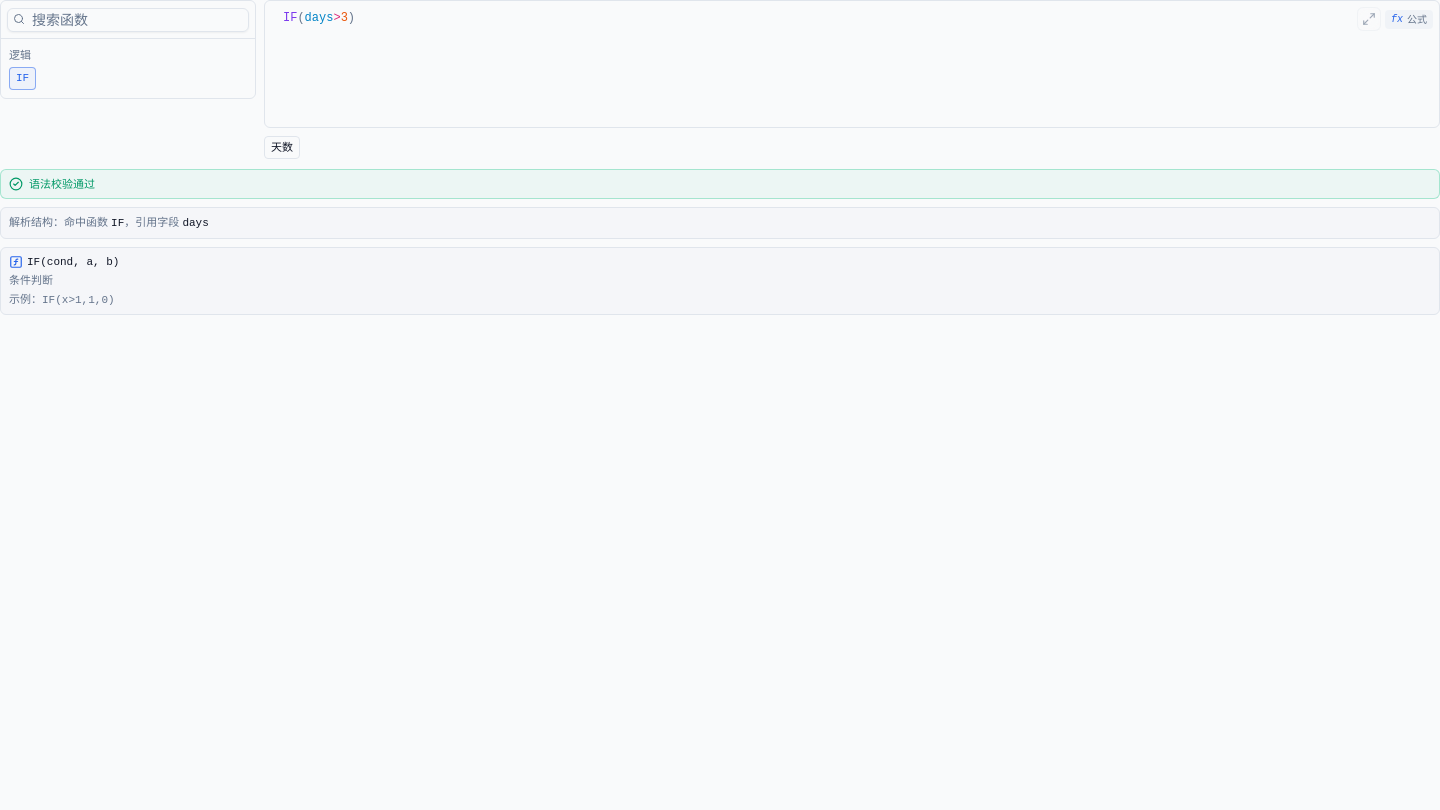
Test: 公式编辑器放大到弹窗 › 放大按钮开 Dialog，弹窗内是完整公式编辑器（函数库/补全保留），防递归
expect the number of fields with placeholder "搜索函数" is 1: met, box [7, 8, 249, 32]
Click the button named "放大编辑": {"x": 1369, "y": 19} [1357, 7, 1381, 31]
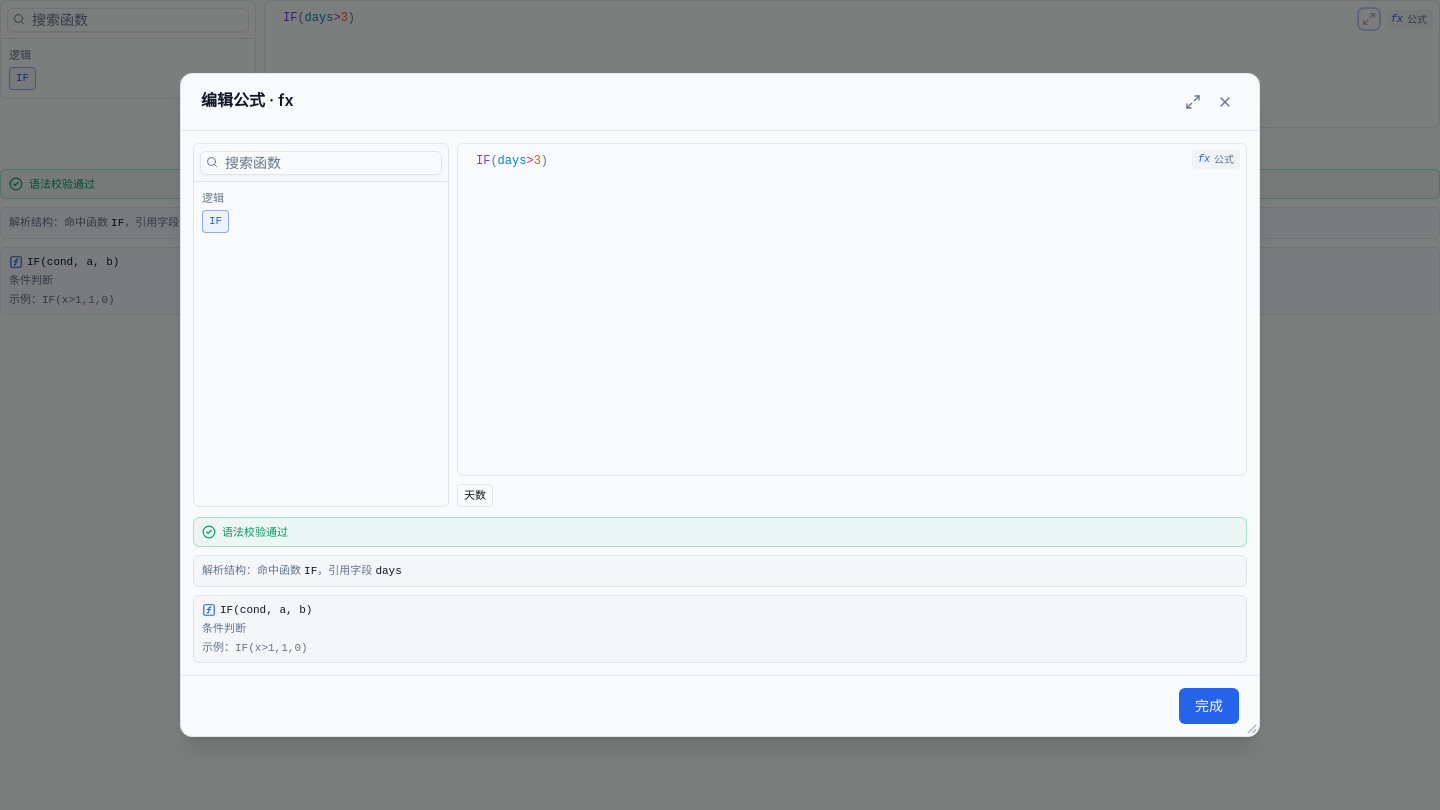
expect the heading "编辑公式 · fx" is shown: met, box [201, 90, 294, 110]
expect the number of fields with placeholder "搜索函数" is 2: met, box [7, 8, 249, 32]; [200, 150, 442, 174]
expect the number of elements with class "cm-editor" is 2: met, box [283, 11, 355, 25]; [476, 154, 548, 168]
